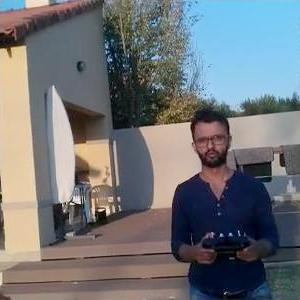follow: (167, 101, 284, 298)
